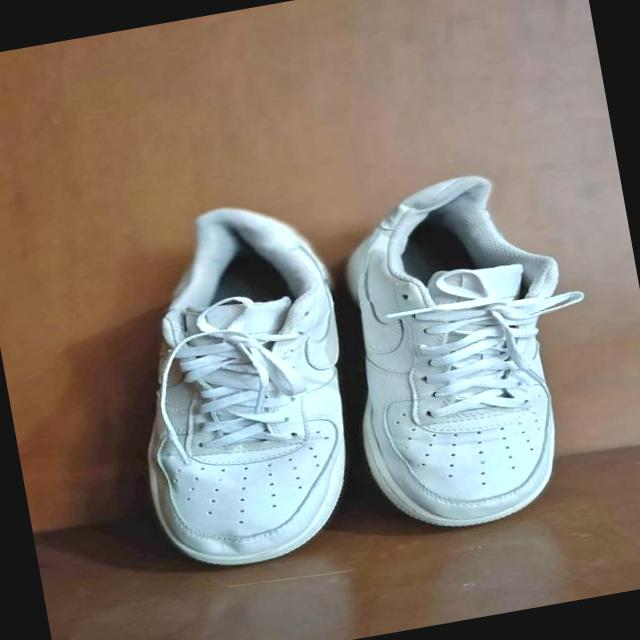nike_fake_airforce: (98, 189, 380, 582), (322, 166, 606, 544)
